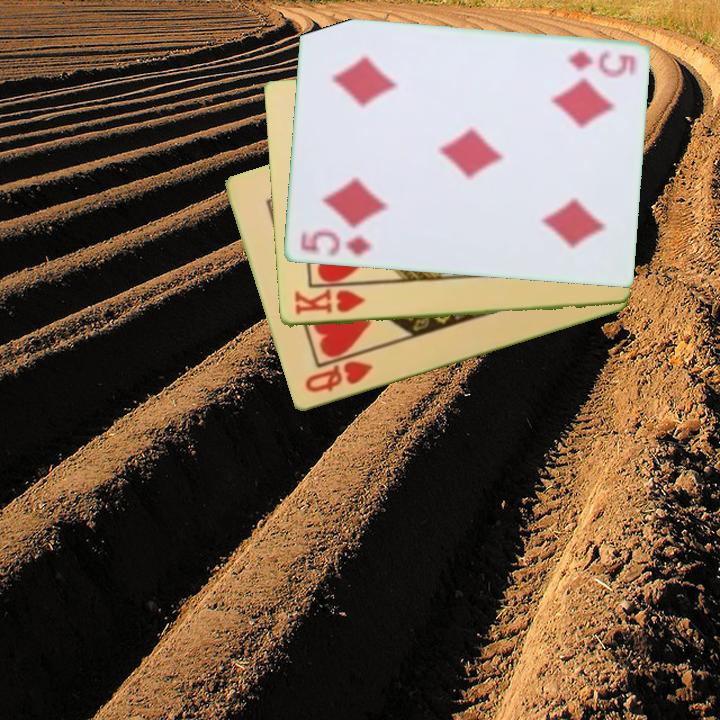5d: (296, 227, 374, 260), (564, 47, 638, 78)
Kh: (291, 287, 367, 318)
Qh: (301, 358, 376, 396)
